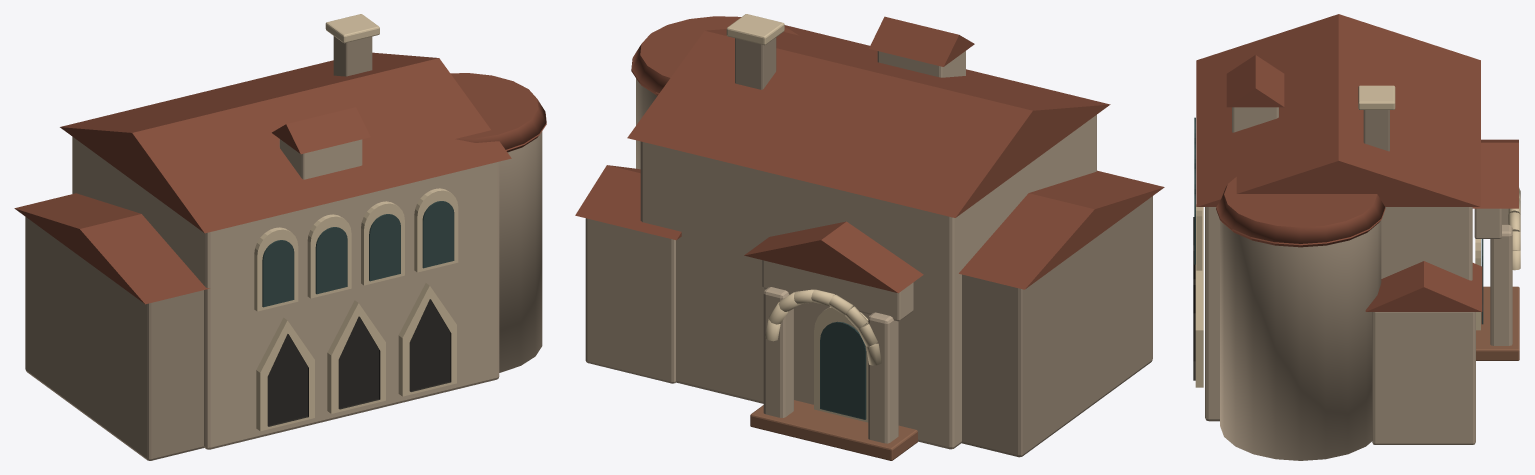
Rendered from sun-ke-villa-massing.glb.
3 views of the same model, side by side, from view 1: azimuth 30°, elevation 25°; view 2: azimuth 150°, elevation 25°; view 3: azimuth 270°, elevation 25° (orthographic). The views are drawn at different scales.
Parts seen in each view (by area): view 1: SunKeVilla_Massing; view 2: SunKeVilla_Massing; view 3: SunKeVilla_Massing.
Boxes of the visible parts, bbox=[...] form: SunKeVilla_Massing: bbox=[14, 14, 546, 460]; SunKeVilla_Massing: bbox=[575, 14, 1164, 460]; SunKeVilla_Massing: bbox=[1193, 14, 1520, 460].
Size of the model in its own units: 7.58 by 5.05 by 4.99.
